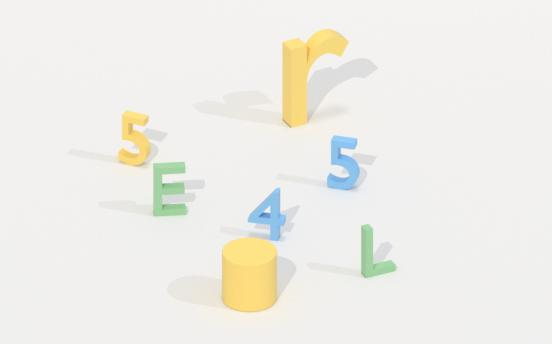4: (243, 185, 291, 243)
5: (113, 109, 158, 168), (323, 133, 366, 190)
E-hoa: (149, 159, 192, 218)
R: (278, 26, 349, 132)
l: (356, 221, 404, 280)
tru: (217, 235, 280, 316)
